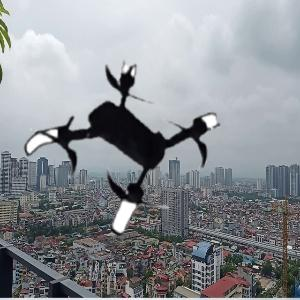drone: (22, 54, 222, 254)
